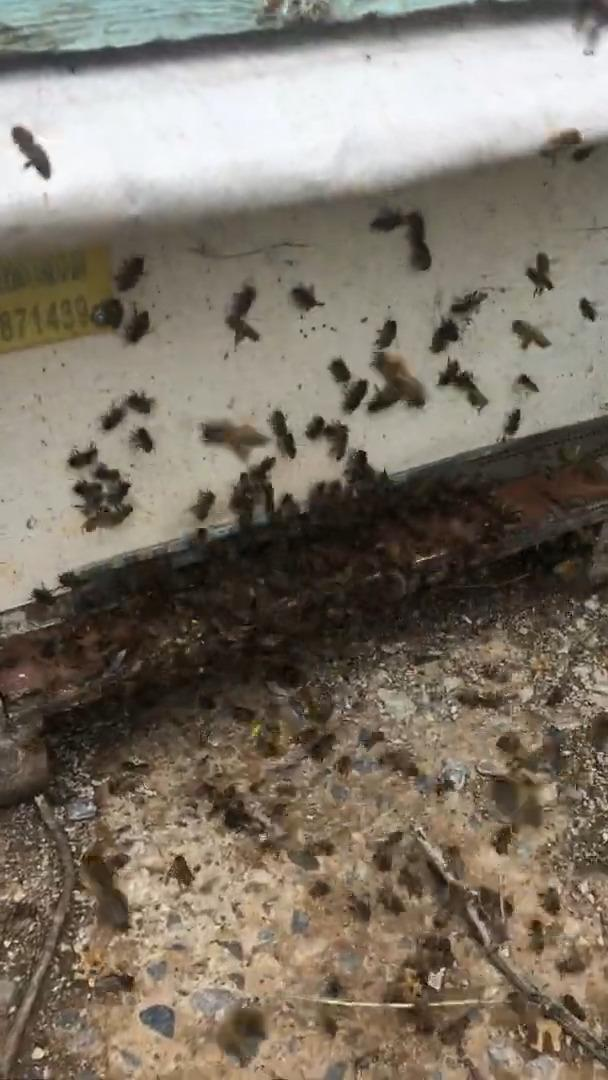worker-bee: (200, 419, 269, 462), (373, 350, 425, 406), (438, 360, 487, 411), (11, 125, 51, 180), (403, 210, 431, 271), (82, 502, 132, 531), (230, 472, 254, 529), (269, 409, 296, 459), (526, 252, 553, 296), (511, 320, 551, 349), (91, 297, 123, 329), (115, 255, 143, 291), (450, 290, 487, 316), (430, 318, 458, 352), (325, 421, 348, 460), (230, 285, 256, 319), (124, 308, 149, 343), (229, 318, 259, 347), (343, 379, 367, 413), (291, 285, 323, 310), (67, 443, 97, 469), (190, 491, 215, 522), (169, 854, 193, 885), (309, 732, 335, 760), (100, 403, 125, 431), (561, 993, 585, 1021), (125, 391, 154, 414), (375, 319, 396, 350), (129, 427, 154, 453), (539, 886, 560, 914), (329, 358, 351, 384), (528, 919, 544, 952), (305, 415, 325, 439), (504, 409, 520, 437), (32, 587, 54, 605), (280, 493, 298, 515), (579, 298, 596, 321), (58, 571, 78, 588)
